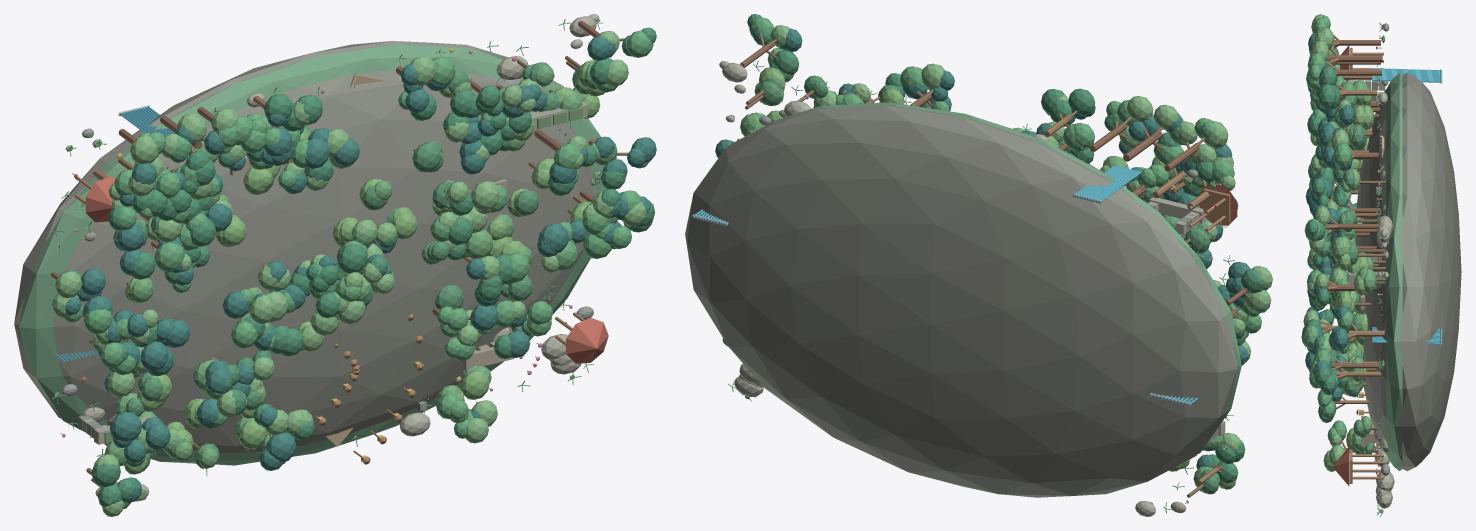
The model's file is Crazy_Rush_Forest_ArtPass_Batched.glb.
The picture shows the model from 3 angles, left to right: view 1: azimuth 30°, elevation 25°; view 2: azimuth 150°, elevation 25°; view 3: azimuth 270°, elevation 25°; orthographic projection. The views are drawn at different scales.
Visible parts, largest first — view 1: original_island_rock, art_color_01, art_color_02, art_color_03, art_color_05, original_island_grass, art_color_07, art_color_12, art_color_04, art_color_15, art_color_06, art_color_13 (+1 smaller); view 2: original_island_rock, art_color_02, art_color_05, art_color_03, art_color_01, original_island_grass, art_color_07, art_color_04, art_color_00, art_color_13, art_color_15; view 3: original_island_rock, original_island_grass, art_color_05, art_color_03, art_color_02, art_color_01, art_color_04, art_color_00, art_color_07, art_color_13, art_color_15, art_color_12 (+7 smaller).
Part boxes in pixels (x1,y1,x2,y2): original_island_rock: (14, 41, 594, 452); art_color_01: (65, 35, 656, 502); art_color_02: (52, 20, 646, 516); art_color_03: (51, 19, 656, 506); art_color_05: (57, 23, 653, 503); original_island_grass: (19, 44, 607, 465); art_color_07: (82, 14, 599, 501); art_color_12: (74, 91, 608, 382); art_color_04: (51, 20, 599, 425); art_color_15: (74, 171, 584, 464); art_color_06: (54, 77, 602, 501); art_color_13: (55, 106, 174, 362); original_island_rock: (685, 105, 1237, 497); art_color_02: (728, 25, 1272, 489); art_color_05: (732, 17, 1261, 510); art_color_03: (747, 14, 1264, 513); art_color_01: (715, 28, 1250, 469); original_island_grass: (730, 102, 1241, 454); art_color_07: (719, 61, 1225, 516); art_color_04: (740, 41, 1247, 305); art_color_00: (759, 33, 1248, 484); art_color_13: (692, 165, 1198, 405); art_color_15: (1188, 188, 1230, 231); original_island_rock: (1355, 72, 1461, 471); original_island_grass: (1386, 72, 1404, 470); art_color_05: (1303, 15, 1383, 516); art_color_03: (1301, 39, 1383, 510); art_color_02: (1303, 14, 1383, 515); art_color_01: (1305, 34, 1356, 422); art_color_04: (1325, 40, 1382, 452); art_color_00: (1320, 34, 1384, 450); art_color_07: (1349, 79, 1394, 508); art_color_13: (1372, 68, 1442, 344); art_color_15: (1349, 48, 1383, 483); art_color_12: (1332, 45, 1380, 486).
Bounding box in the file's own units: 87.52 × 57.68 × 24.8.
